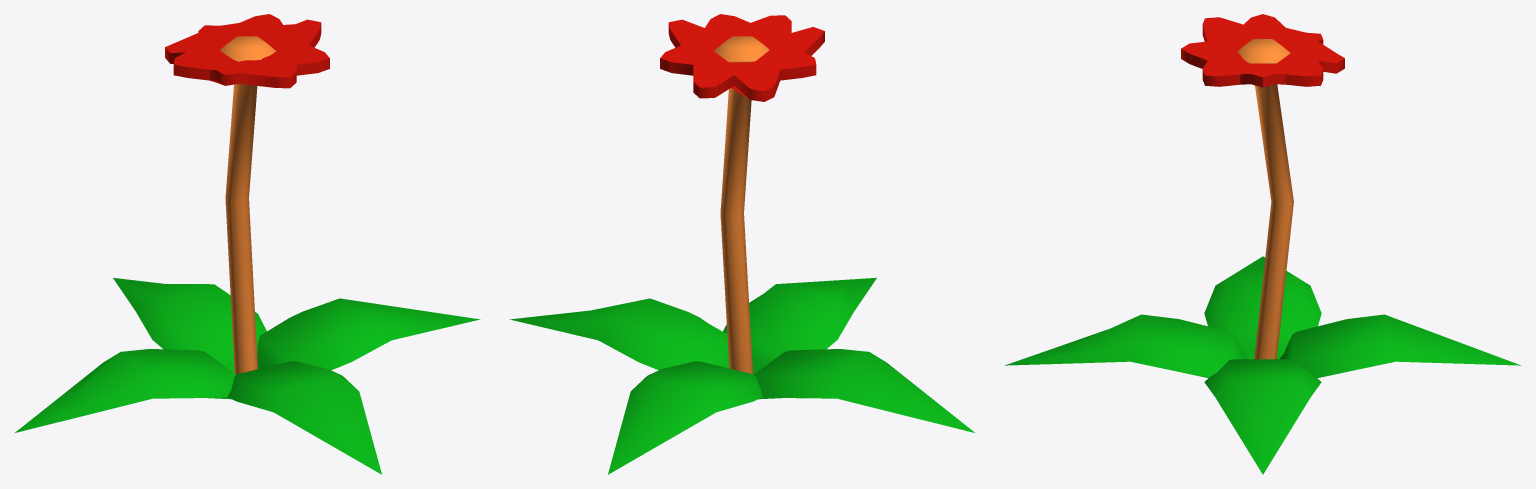
Rendered from flower-red.fbx.
The picture shows the model from 3 angles, left to right: view 1: azimuth 30°, elevation 25°; view 2: azimuth 150°, elevation 25°; view 3: azimuth 270°, elevation 25°; orthographic projection. The views are drawn at different scales.
Visible parts, largest first — view 1: flower-red; view 2: flower-red; view 3: flower-red.
Boxes of the visible parts, x1=… form: flower-red: x1=15, y1=14, x2=480, y2=474; flower-red: x1=509, y1=14, x2=974, y2=474; flower-red: x1=1005, y1=14, x2=1521, y2=474.
Bounding box in the file's own units: 0.4324 × 0.3127 × 0.4324.
